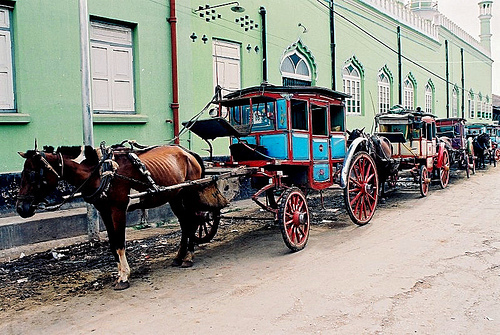horse: (13, 139, 209, 291)
